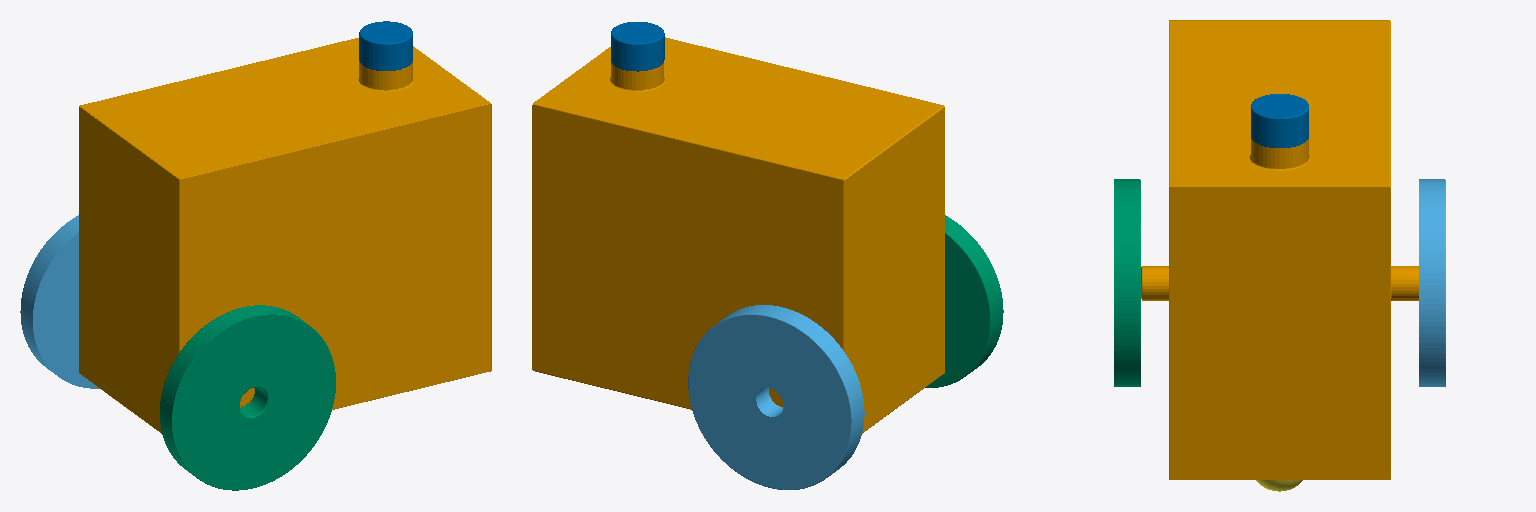
URDF robot description (vehicle_demo):
<?xml version="1.0" ?>
<robot name="vehicle_demo">

<material name="silver">
  <color rgba="0.700 0.700 0.700 1.000"/>
</material>

<link name="base_link">
  <inertial>
    <origin xyz="0.0001496038021972566 -3.7106655860463863e-06 0.5881393465343613" rpy="0 0 0"/>
    <mass value="726.1070811473326"/>
    <inertia ixx="78.07046734465393" iyy="131.959467748026" izz="103.60280206008548" ixy="-0.0002643353040236655" iyz="0.00022789467034638254" ixz="-0.4627714692845455"/>
  </inertial>
  <visual>
    <origin xyz="0 0 0" rpy="0 0 0"/>
    <geometry>
      <mesh filename="meshes/base_link.stl" scale="0.001 0.001 0.001"/>
    </geometry>
    <material name="silver"/>
    <material/>
  </visual>
  <collision>
    <origin xyz="0 0 0" rpy="0 0 0"/>
    <geometry>
      <mesh filename="meshes/base_link.stl" scale="0.001 0.001 0.001"/>
    </geometry>
  </collision>
</link>

<link name="left_wheel1">
  <inertial>
    <origin xyz="-5.551115123125783e-17 0.03999350250924549 0.0" rpy="0 0 0"/>
    <mass value="20.44838994765809"/>
    <inertia ixx="0.4836981779333973" iyy="0.9455915911746313" izz="0.4836981779334213" ixy="-8.881784197001252e-16" iyz="0.0" ixz="-8.881784197001252e-16"/>
  </inertial>
  <visual>
    <origin xyz="0.39 -0.4 -0.3" rpy="0 0 0"/>
    <geometry>
      <mesh filename="meshes/left_wheel1.stl" scale="0.001 0.001 0.001"/>
    </geometry>
    <material name="silver"/>
    <material/>
  </visual>
  <collision>
    <origin xyz="0.39 -0.4 -0.3" rpy="0 0 0"/>
    <geometry>
      <mesh filename="meshes/left_wheel1.stl" scale="0.001 0.001 0.001"/>
    </geometry>
  </collision>
</link>

<link name="right_wheel1">
  <inertial>
    <origin xyz="0.0 -0.04000879409038888 0.0" rpy="0 0 0"/>
    <mass value="20.444369876860492"/>
    <inertia ixx="0.4835567391024451" iyy="0.9453209383840555" izz="0.48355673910247" ixy="4.440892098500626e-16" iyz="-4.440892098500626e-16" ixz="0.0"/>
  </inertial>
  <visual>
    <origin xyz="0.39 0.4 -0.3" rpy="0 0 0"/>
    <geometry>
      <mesh filename="meshes/right_wheel1.stl" scale="0.001 0.001 0.001"/>
    </geometry>
    <material name="silver"/>
    <material/>
  </visual>
  <collision>
    <origin xyz="0.39 0.4 -0.3" rpy="0 0 0"/>
    <geometry>
      <mesh filename="meshes/right_wheel1.stl" scale="0.001 0.001 0.001"/>
    </geometry>
  </collision>
</link>

<link name="caster_wheel1">
  <inertial>
    <origin xyz="-0.19999999999999984 -7.546047120499111e-17 -0.04750000000000003" rpy="0 0 0"/>
    <mass value="17.97823519906563"/>
    <inertia ixx="0.04726028577954179" iyy="0.04726028577954411" izz="0.06310360554871863" ixy="-5.724587470723463e-17" iyz="-1.7780915628762273e-17" ixz="-1.6653345369377348e-16"/>
  </inertial>
  <visual>
    <origin xyz="-0.569 0.0015 -0.12" rpy="0 0 0"/>
    <geometry>
      <mesh filename="meshes/caster_wheel1.stl" scale="0.001 0.001 0.001"/>
    </geometry>
    <material name="silver"/>
    <material/>
  </visual>
  <collision>
    <origin xyz="-0.569 0.0015 -0.12" rpy="0 0 0"/>
    <geometry>
      <mesh filename="meshes/caster_wheel1.stl" scale="0.001 0.001 0.001"/>
    </geometry>
  </collision>
</link>

<link name="lidar1">
  <inertial>
    <origin xyz="-5.551115123125783e-17 -1.6058683520845758e-17 0.045358979384899856" rpy="0 0 0"/>
    <mass value="17.783608225791774"/>
    <inertia ixx="0.04682828344427037" iyy="0.04682828344427392" izz="0.06412458739960591" ixy="-1.427906681783495e-17" iyz="7.567453234405628e-17" ixz="1.7763568394002505e-15"/>
  </inertial>
  <visual>
    <origin xyz="-0.37 -0.0 -1.125" rpy="0 0 0"/>
    <geometry>
      <mesh filename="meshes/lidar1.stl" scale="0.001 0.001 0.001"/>
    </geometry>
    <material name="silver"/>
    <material/>
  </visual>
  <collision>
    <origin xyz="-0.37 -0.0 -1.125" rpy="0 0 0"/>
    <geometry>
      <mesh filename="meshes/lidar1.stl" scale="0.001 0.001 0.001"/>
    </geometry>
  </collision>
</link>

<joint name="Revolute_1" type="continuous">
  <origin xyz="-0.39 0.4 0.3" rpy="0 0 0"/>
  <parent link="base_link"/>
  <child link="left_wheel1"/>
  <axis xyz="0.0 1.0 0.0"/>
</joint>
<transmission name="Revolute_1_tran">
  <type>transmission_interface/SimpleTransmission</type>
  <joint name="Revolute_1">
    <hardwareInterface>PositionJointInterface</hardwareInterface>
  </joint>
  <actuator name="Revolute_1_actr">
    <hardwareInterface>PositionJointInterface</hardwareInterface>
    <mechanicalReduction>1</mechanicalReduction>
  </actuator>
</transmission>

<joint name="Revolute_2" type="continuous">
  <origin xyz="-0.39 -0.4 0.3" rpy="0 0 0"/>
  <parent link="base_link"/>
  <child link="right_wheel1"/>
  <axis xyz="0.0 1.0 0.0"/>
</joint>
<transmission name="Revolute_2_tran">
  <type>transmission_interface/SimpleTransmission</type>
  <joint name="Revolute_2">
    <hardwareInterface>PositionJointInterface</hardwareInterface>
  </joint>
  <actuator name="Revolute_2_actr">
    <hardwareInterface>PositionJointInterface</hardwareInterface>
    <mechanicalReduction>1</mechanicalReduction>
  </actuator>
</transmission>

<joint name="Revolute_3" type="continuous">
  <origin xyz="0.569 -0.0015 0.12" rpy="0 0 0"/>
  <parent link="base_link"/>
  <child link="caster_wheel1"/>
  <axis xyz="0.0 0.0 -1.0"/>
</joint>
<transmission name="Revolute_3_tran">
  <type>transmission_interface/SimpleTransmission</type>
  <joint name="Revolute_3">
    <hardwareInterface>PositionJointInterface</hardwareInterface>
  </joint>
  <actuator name="Revolute_3_actr">
    <hardwareInterface>PositionJointInterface</hardwareInterface>
    <mechanicalReduction>1</mechanicalReduction>
  </actuator>
</transmission>

<joint name="Revolute_4" type="continuous">
  <origin xyz="0.37 0.0 1.125" rpy="0 0 0"/>
  <parent link="base_link"/>
  <child link="lidar1"/>
  <axis xyz="0.0 0.0 1.0"/>
</joint>
<transmission name="Revolute_4_tran">
  <type>transmission_interface/SimpleTransmission</type>
  <joint name="Revolute_4">
    <hardwareInterface>PositionJointInterface</hardwareInterface>
  </joint>
  <actuator name="Revolute_4_actr">
    <hardwareInterface>PositionJointInterface</hardwareInterface>
    <mechanicalReduction>1</mechanicalReduction>
  </actuator>
</transmission>

</robot>

--- Facts derived from the render (not from the file) ---
The picture shows the robot from 3 angles, left to right: view 1: azimuth 30°, elevation 25°; view 2: azimuth 150°, elevation 25°; view 3: azimuth 270°, elevation 25°; orthographic projection.
Robot: vehicle_demo — 5 links, 4 joints (4 continuous); root link base_link; default pose: all joints at 0.
Visible links, largest first — view 1: base_link, right_wheel1, left_wheel1, lidar1; view 2: base_link, left_wheel1, right_wheel1, lidar1; view 3: base_link, left_wheel1, right_wheel1, lidar1.
Boxes of the visible links, x1=… form: base_link: x1=79, y1=38, x2=491, y2=433; right_wheel1: x1=160, y1=305, x2=335, y2=490; left_wheel1: x1=20, y1=215, x2=99, y2=388; lidar1: x1=359, y1=21, x2=412, y2=70; base_link: x1=532, y1=37, x2=944, y2=433; left_wheel1: x1=688, y1=305, x2=864, y2=489; right_wheel1: x1=925, y1=215, x2=1003, y2=387; lidar1: x1=611, y1=22, x2=664, y2=71; base_link: x1=1141, y1=20, x2=1418, y2=479; left_wheel1: x1=1419, y1=179, x2=1445, y2=386; right_wheel1: x1=1114, y1=179, x2=1140, y2=386; lidar1: x1=1251, y1=94, x2=1308, y2=147.
Bounding box of the posed robot: 1.26 × 0.96 × 1.22 m (x, y, z).
Meshes: 5 distinct files referenced, 5 mesh visuals loaded (5 binary STL).